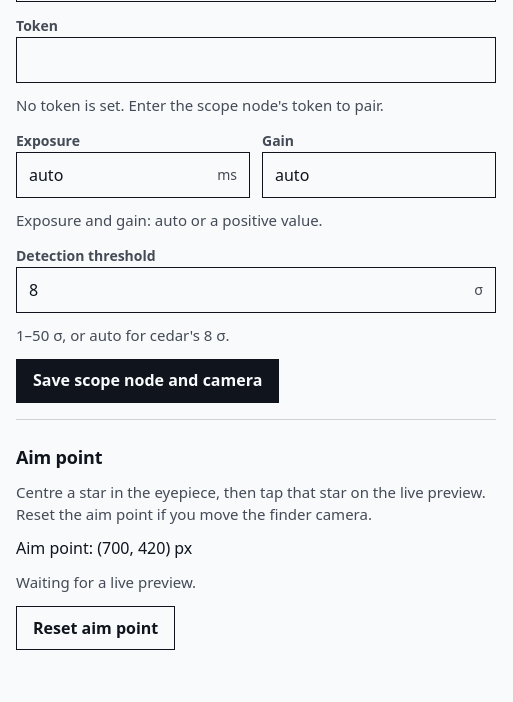
Setup's aim-point tap › can reset a saved aim point before any preview arrives
The width and height of the screenshot is (513, 702).
(page scrolled)
Click the button "Reset aim point".
click(96, 628)  # box x1=16 y1=606 x2=175 y2=650
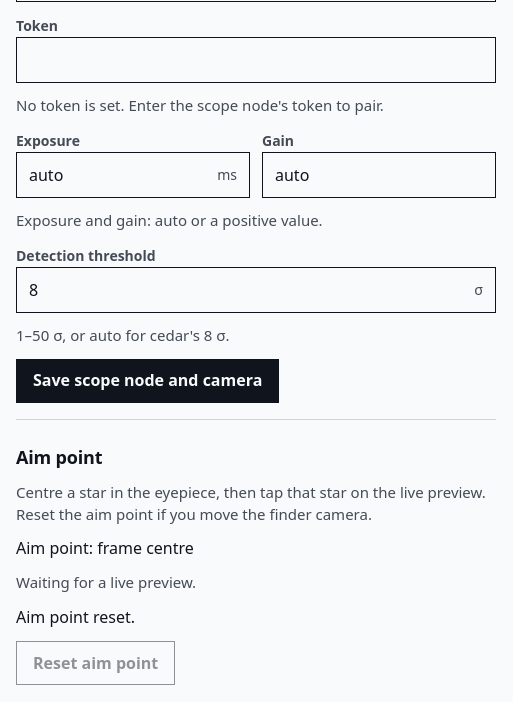
Expected: the text "Aim point: frame centre" is shown, x1=16 y1=537 x2=194 y2=559
